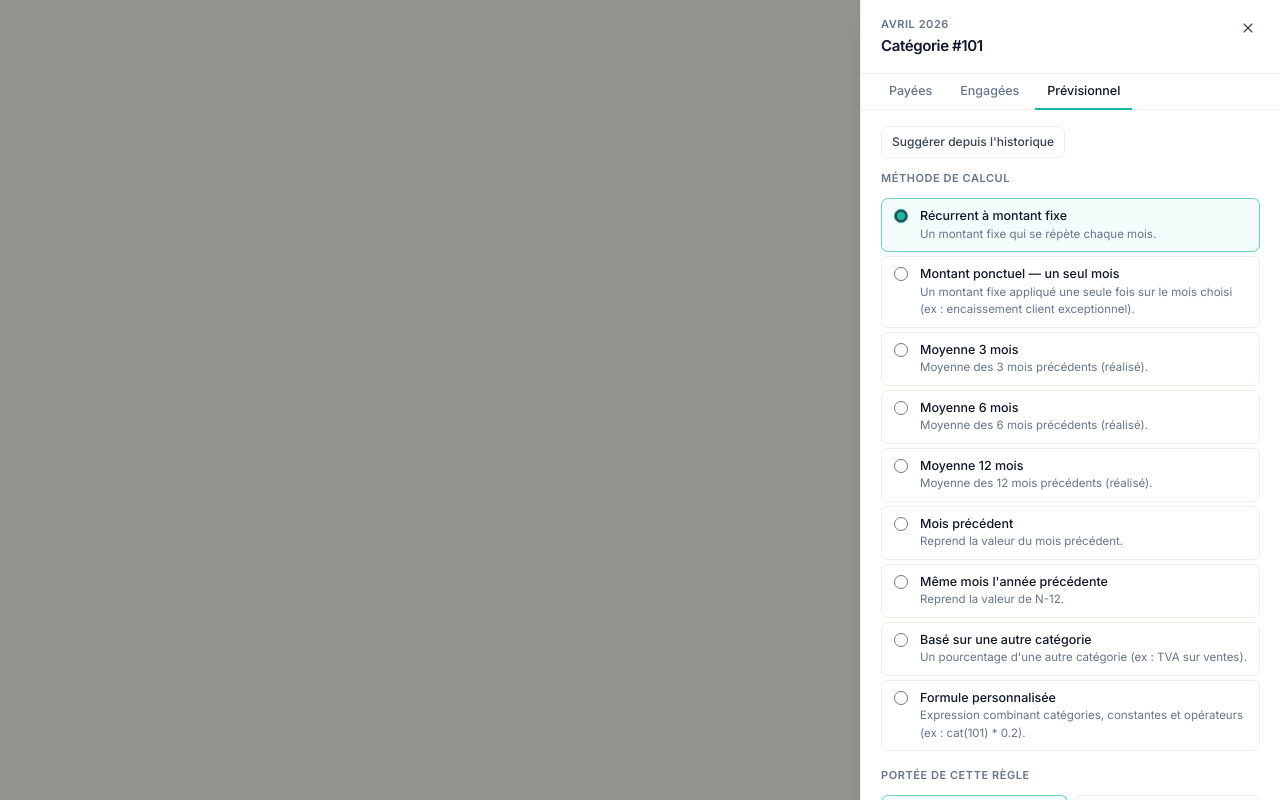
Test case: CellEditorDrawer › switches tabs and renders the matching empty state
The image size is (1280, 800).
Expected: the text "Méthode de calcul" is shown, top-left (881, 170), bottom-right (1010, 186)
Click the button "Payées". click: [911, 91]
box: top-left (877, 74), bottom-right (944, 109)
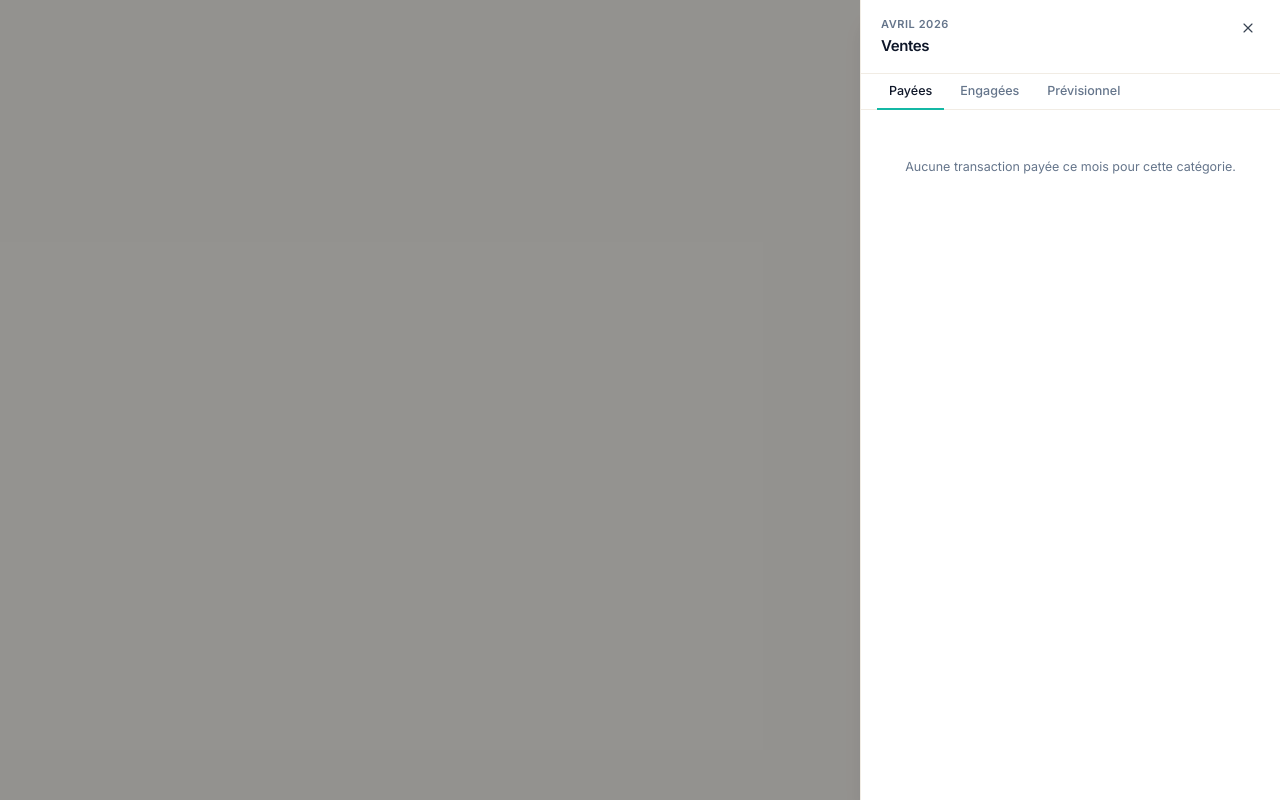
Result: the text "Aucune transaction payée ce mois pour cette catégorie." is shown at top-left (905, 159), bottom-right (1236, 174)
Click the button "Engagées". click: [990, 91]
box: top-left (948, 74), bottom-right (1031, 109)
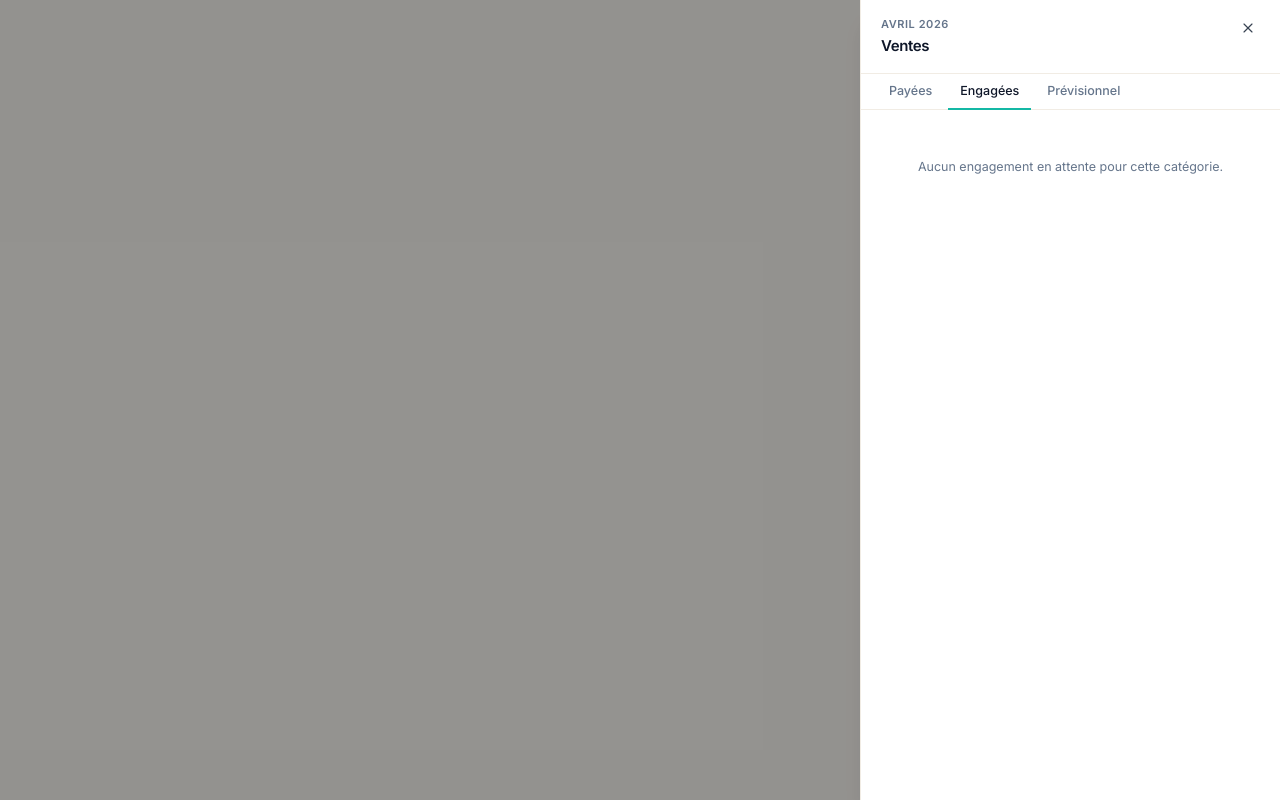
Result: the text "Aucun engagement en attente pour cette catégorie." is shown at top-left (918, 159), bottom-right (1223, 174)
